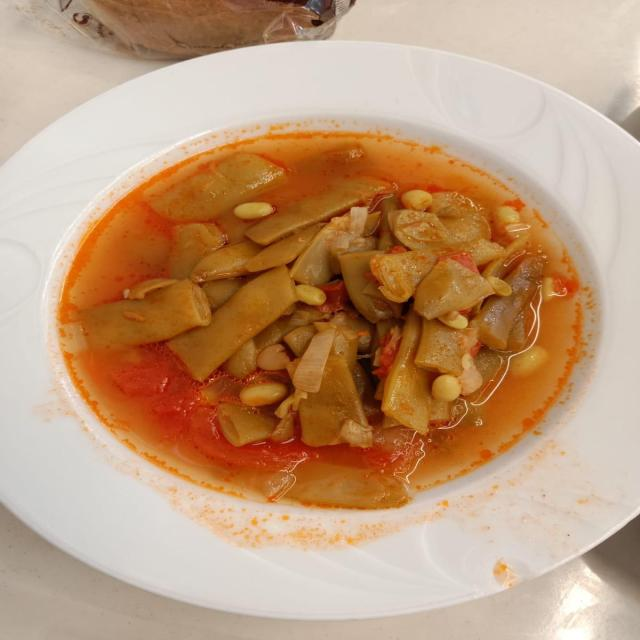ana_yemek: (61, 127, 575, 508)
